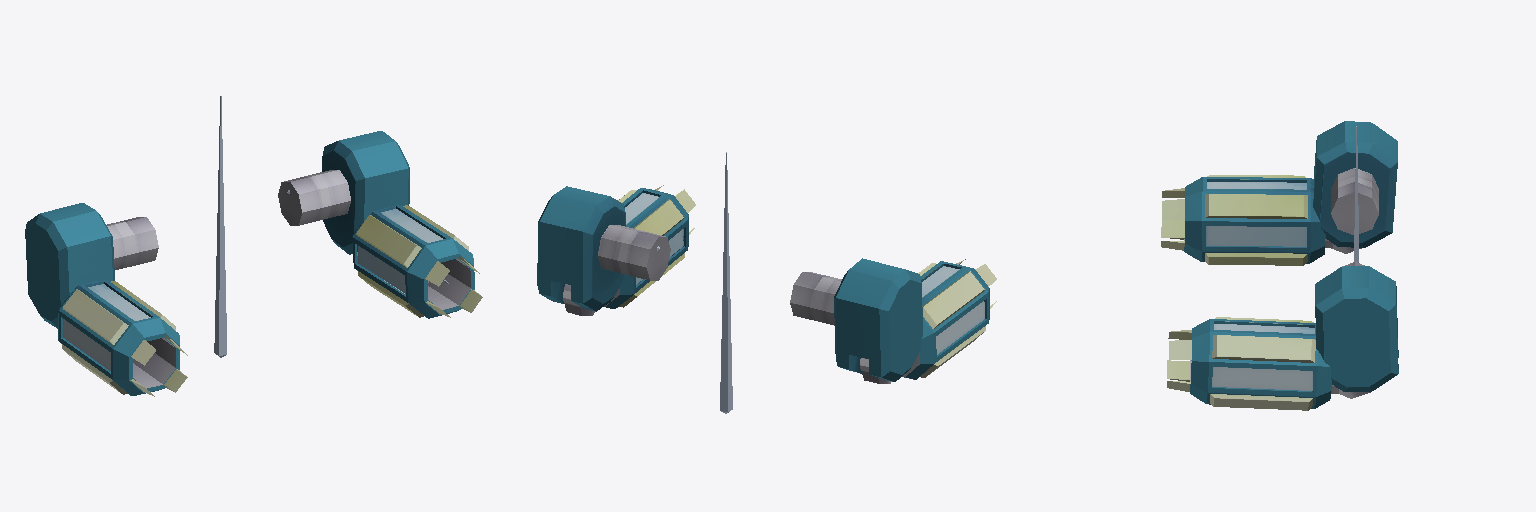
3 views of the same model, side by side, from view 1: azimuth 30°, elevation 25°; view 2: azimuth 150°, elevation 25°; view 3: azimuth 270°, elevation 25° (orthographic).
Visible parts, largest first — view 1: Object009, Object010, Object007, Object008, Object005, Object006, Bone001; view 2: Object007, Object008, Object009, Object010, Object005, Object006, Bone001; view 3: Object009, Object010, Object008, Object007, Object006.
Boxes of the visible parts, x1=… form: Object009: x1=58, y1=279, x2=187, y2=396; Object010: x1=352, y1=205, x2=482, y2=318; Object007: x1=25, y1=203, x2=114, y2=328; Object008: x1=322, y1=131, x2=409, y2=254; Object005: x1=278, y1=170, x2=350, y2=225; Object006: x1=107, y1=217, x2=158, y2=269; Bone001: x1=214, y1=96, x2=226, y2=357; Object007: x1=834, y1=258, x2=922, y2=381; Object008: x1=537, y1=186, x2=625, y2=311; Object009: x1=860, y1=259, x2=996, y2=383; Object010: x1=563, y1=185, x2=695, y2=315; Object005: x1=598, y1=225, x2=670, y2=280; Object006: x1=790, y1=272, x2=841, y2=325; Bone001: x1=720, y1=152, x2=732, y2=413; Object009: x1=1161, y1=175, x2=1361, y2=265; Object010: x1=1167, y1=317, x2=1370, y2=410; Object008: x1=1315, y1=266, x2=1398, y2=391; Object007: x1=1313, y1=121, x2=1397, y2=247; Object006: x1=1331, y1=168, x2=1378, y2=234.
Size of the model in its own units: 175 by 120 by 98.39.
2 materials, 1 textured.